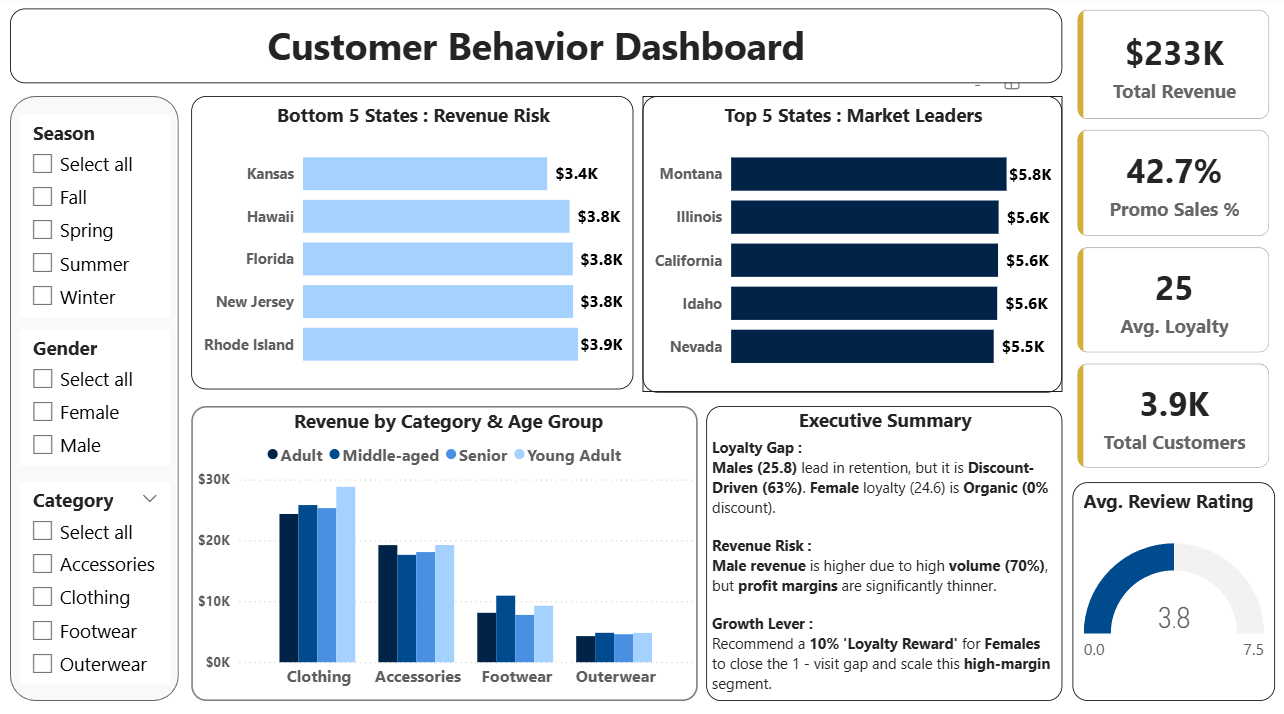

This screenshot's page, from the dashboard's own definition file:
{"tool":"powerbi","page":{"name":"Customer Behavior Dashboard","canvas":[1280,720],"ordinal":0},"visuals":[{"type":"cardVisual","fields":{"Data":["Key Metrics.Total Revenue"]},"box":[1067.3,8.7,201.5,119.4],"z":0},{"type":"cardVisual","fields":{"Data":["Key Metrics.Promo Sales %"]},"box":[1067.3,128.1,201.5,116.9],"z":1000},{"type":"cardVisual","fields":{"Data":["Key Metrics.Avg Loyalty (Prev Purchases)"]},"box":[1067.3,245.1,201.5,115.7],"z":2000},{"type":"shape","box":[10,99.5,167.9,602.1],"z":3000},{"type":"slicer","fields":{"Values":["public customer.category"]},"box":[19.9,483.9,149.3,201.5],"z":4000},{"type":"slicer","fields":{"Values":["public customer.season"]},"box":[19.9,118.2,149.3,201.5],"z":5000},{"type":"slicer","fields":{"Values":["public customer.gender"]},"box":[19.9,332.1,149.3,135.6],"z":6000},{"type":"clusteredColumnChart","title":"Revenue by Category & Age Group","fields":{"Category":["public customer.category"],"Series":["public customer.age_group"],"Y":["Key Metrics.Total Revenue"]},"box":[190.3,408,503.8,293.6],"z":7000},{"type":"clusteredBarChart","title":"Bottom 5 States : Revenue Risk","fields":{"Category":["public customer.location"],"Y":["Key Metrics.Total Revenue"]},"box":[190.3,99.5,440.4,292.3],"z":8000},{"type":"gauge","title":"Avg. Review Rating","fields":{"Y":["public customer.Average Review Rating"]},"box":[1067.3,483.9,201.5,217.7],"z":9000},{"type":"clusteredBarChart","title":"Top 5 States : Market Leaders","fields":{"Category":["public customer.location"],"Y":["Key Metrics.Total Revenue"]},"box":[639.4,99.5,418,294.8],"z":10000},{"type":"cardVisual","fields":{"Data":["CountNonNull(public customer.customer_id)"]},"box":[1067.3,360.7,201.5,114.4],"z":11000},{"type":"textbox","box":[10,12.4,1047.4,74.6],"z":12000},{"type":"textbox","title":"Executive Summary","box":[702.8,408,354.5,293.6],"z":13000}]}

Visuals, with their boxes in screenshot pixels (x1, y1, x2, y2), scaled from the page's 1280x720 canvas onto the 1284x714 screenshot:
cardVisual - Key Metrics.Total Revenue: 1071/9/1273/127
cardVisual - Key Metrics.Promo Sales %: 1071/127/1273/243
cardVisual - Key Metrics.Avg Loyalty (Prev Purchases): 1071/243/1273/358
shape: 10/99/178/696
slicer - public customer.category: 20/480/170/680
slicer - public customer.season: 20/117/170/317
slicer - public customer.gender: 20/329/170/464
"Revenue by Category & Age Group" clusteredColumnChart: 191/405/696/696
"Bottom 5 States : Revenue Risk" clusteredBarChart: 191/99/633/389
"Avg. Review Rating" gauge: 1071/480/1273/696
"Top 5 States : Market Leaders" clusteredBarChart: 641/99/1061/391
cardVisual - CountNonNull(public customer.customer_id): 1071/358/1273/471
textbox: 10/12/1061/86
"Executive Summary" textbox: 705/405/1061/696
